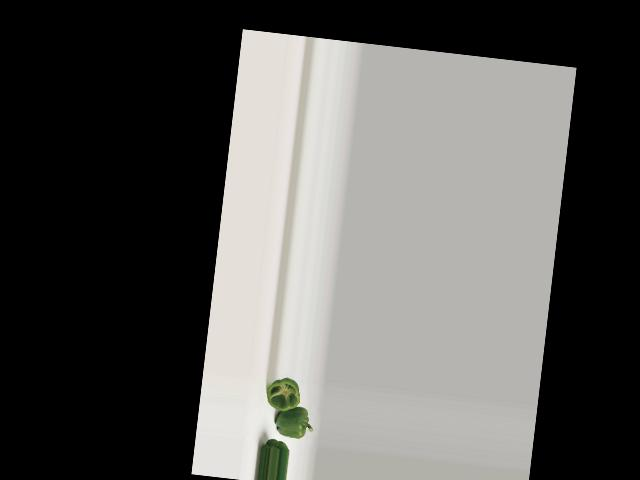bell_pepper: (262, 373, 305, 415)
